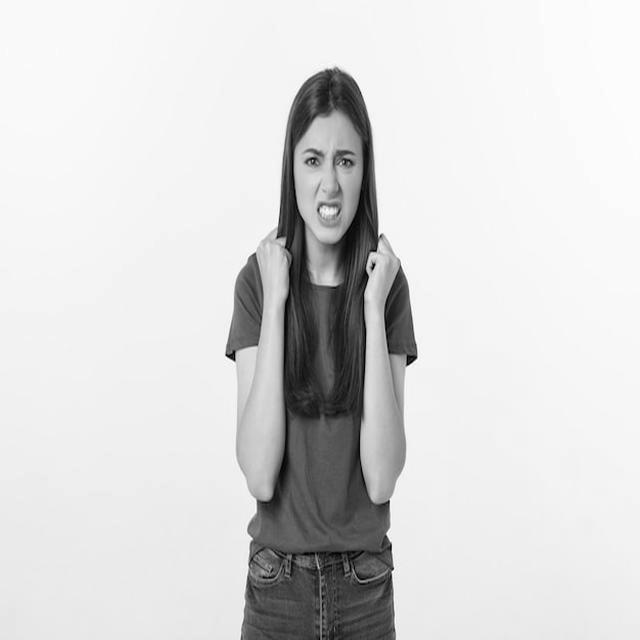Angry: (295, 116, 363, 243)
